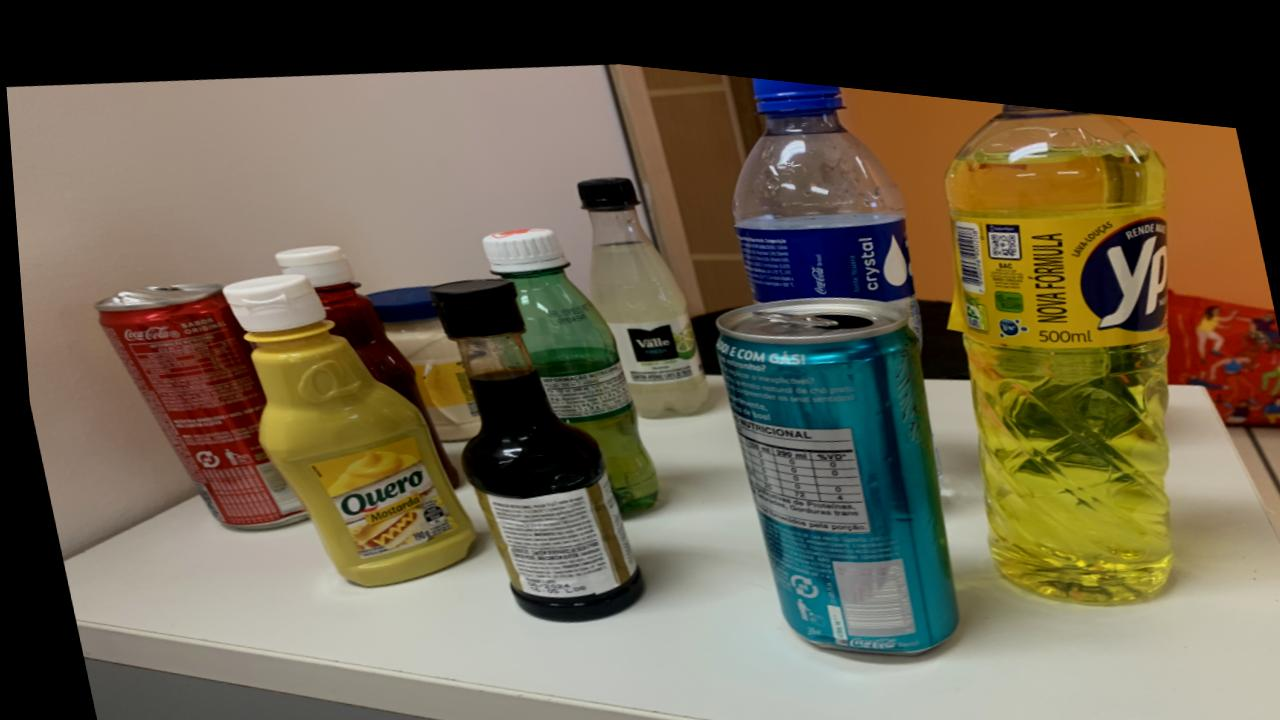Coke-Drinks: (88, 279, 297, 525)
Detergent-Cleanup_Items: (944, 82, 1166, 581)
English_Sauce-Pantry_Items: (427, 269, 636, 609)
Guarana-Drinks: (479, 216, 652, 500)
Ketchup-Pantry_Items: (271, 238, 425, 411)
Mayonnaise-Pantry_Items: (363, 276, 474, 431)
Mustard-Pantry_Items: (218, 267, 467, 579)
Soda-Drinks: (575, 164, 703, 404)
Tea-Drinks: (712, 278, 950, 634)
Water_Bottle-Drinks: (730, 62, 918, 321)
